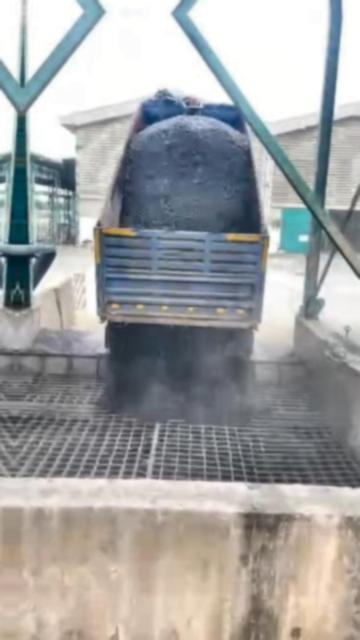gravel: (120, 115, 260, 232), (105, 324, 254, 423), (26, 328, 104, 356)
